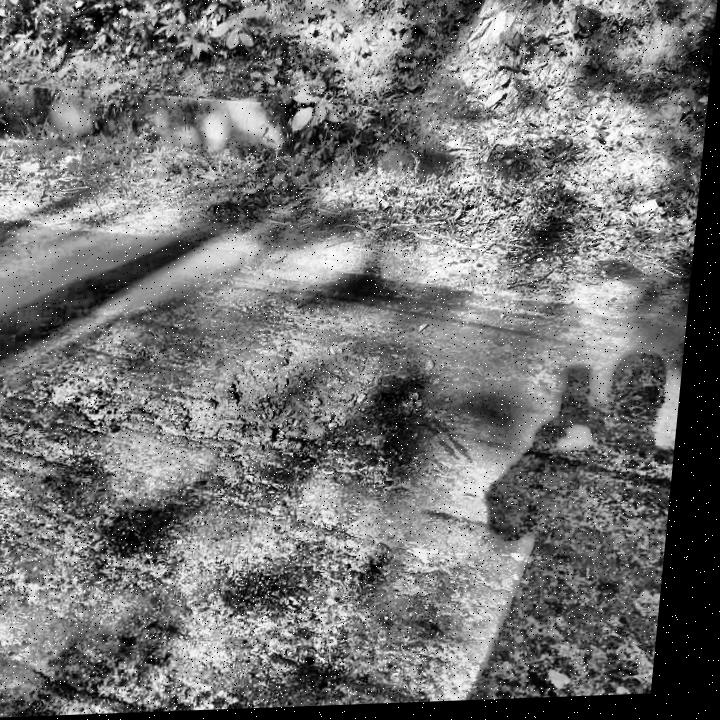pothole: (178, 335, 407, 465)
